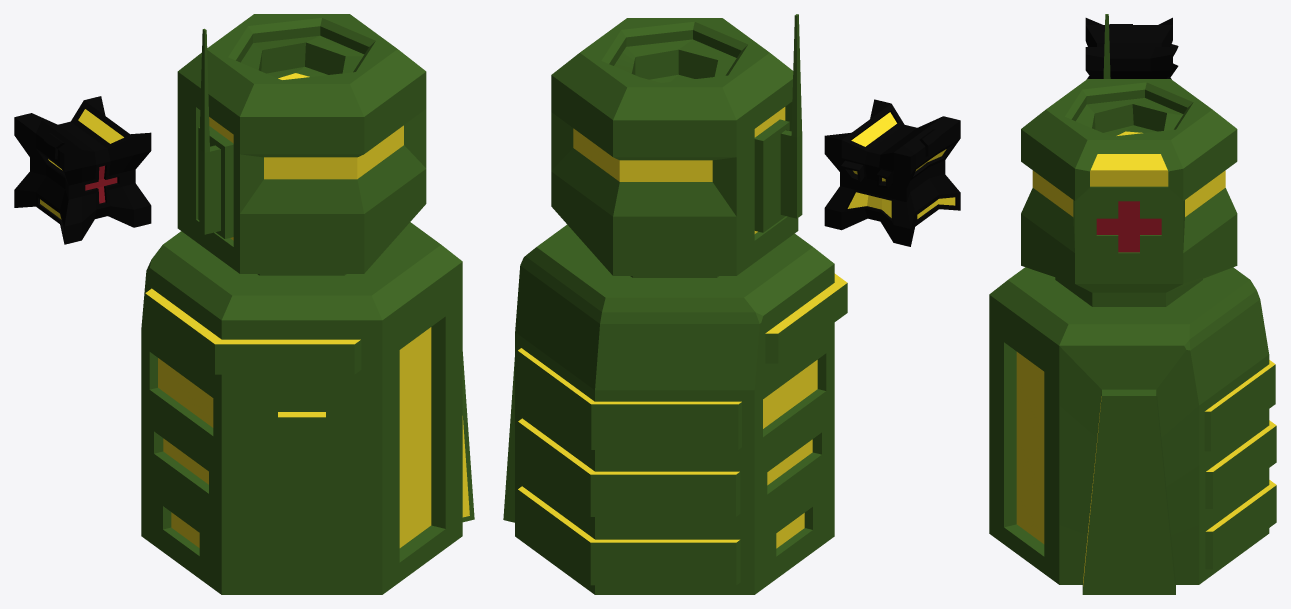
The model's file is SupportTower 1.fbx.
The picture shows the model from 3 angles, left to right: view 1: azimuth 30°, elevation 25°; view 2: azimuth 150°, elevation 25°; view 3: azimuth 270°, elevation 25°; orthographic projection. The views are drawn at different scales.
Visible parts, largest first — view 1: Cylinder, Cylinder.001, Cube; view 2: Cylinder, Cylinder.001, Cube; view 3: Cylinder, Cylinder.001, Cube.
Boxes of the visible parts, <box> form: Cylinder: <box>141,222,474,594</box>; Cylinder.001: <box>177,14,426,275</box>; Cube: <box>14,96,151,244</box>; Cylinder: <box>503,224,847,594</box>; Cylinder.001: <box>551,14,802,277</box>; Cube: <box>824,99,960,246</box>; Cylinder: <box>989,267,1276,594</box>; Cylinder.001: <box>1021,14,1237,306</box>; Cube: <box>1085,17,1178,79</box>.
Size of the model in its own units: 293 by 372 by 205.
